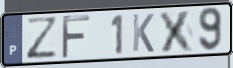1: (110, 13, 125, 56)
9: (197, 5, 224, 54)
F: (60, 14, 92, 61)
K: (131, 12, 156, 54)
X: (157, 8, 196, 54)
Z: (25, 16, 60, 62)
